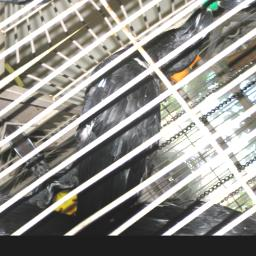Crow: (9, 0, 256, 234)
